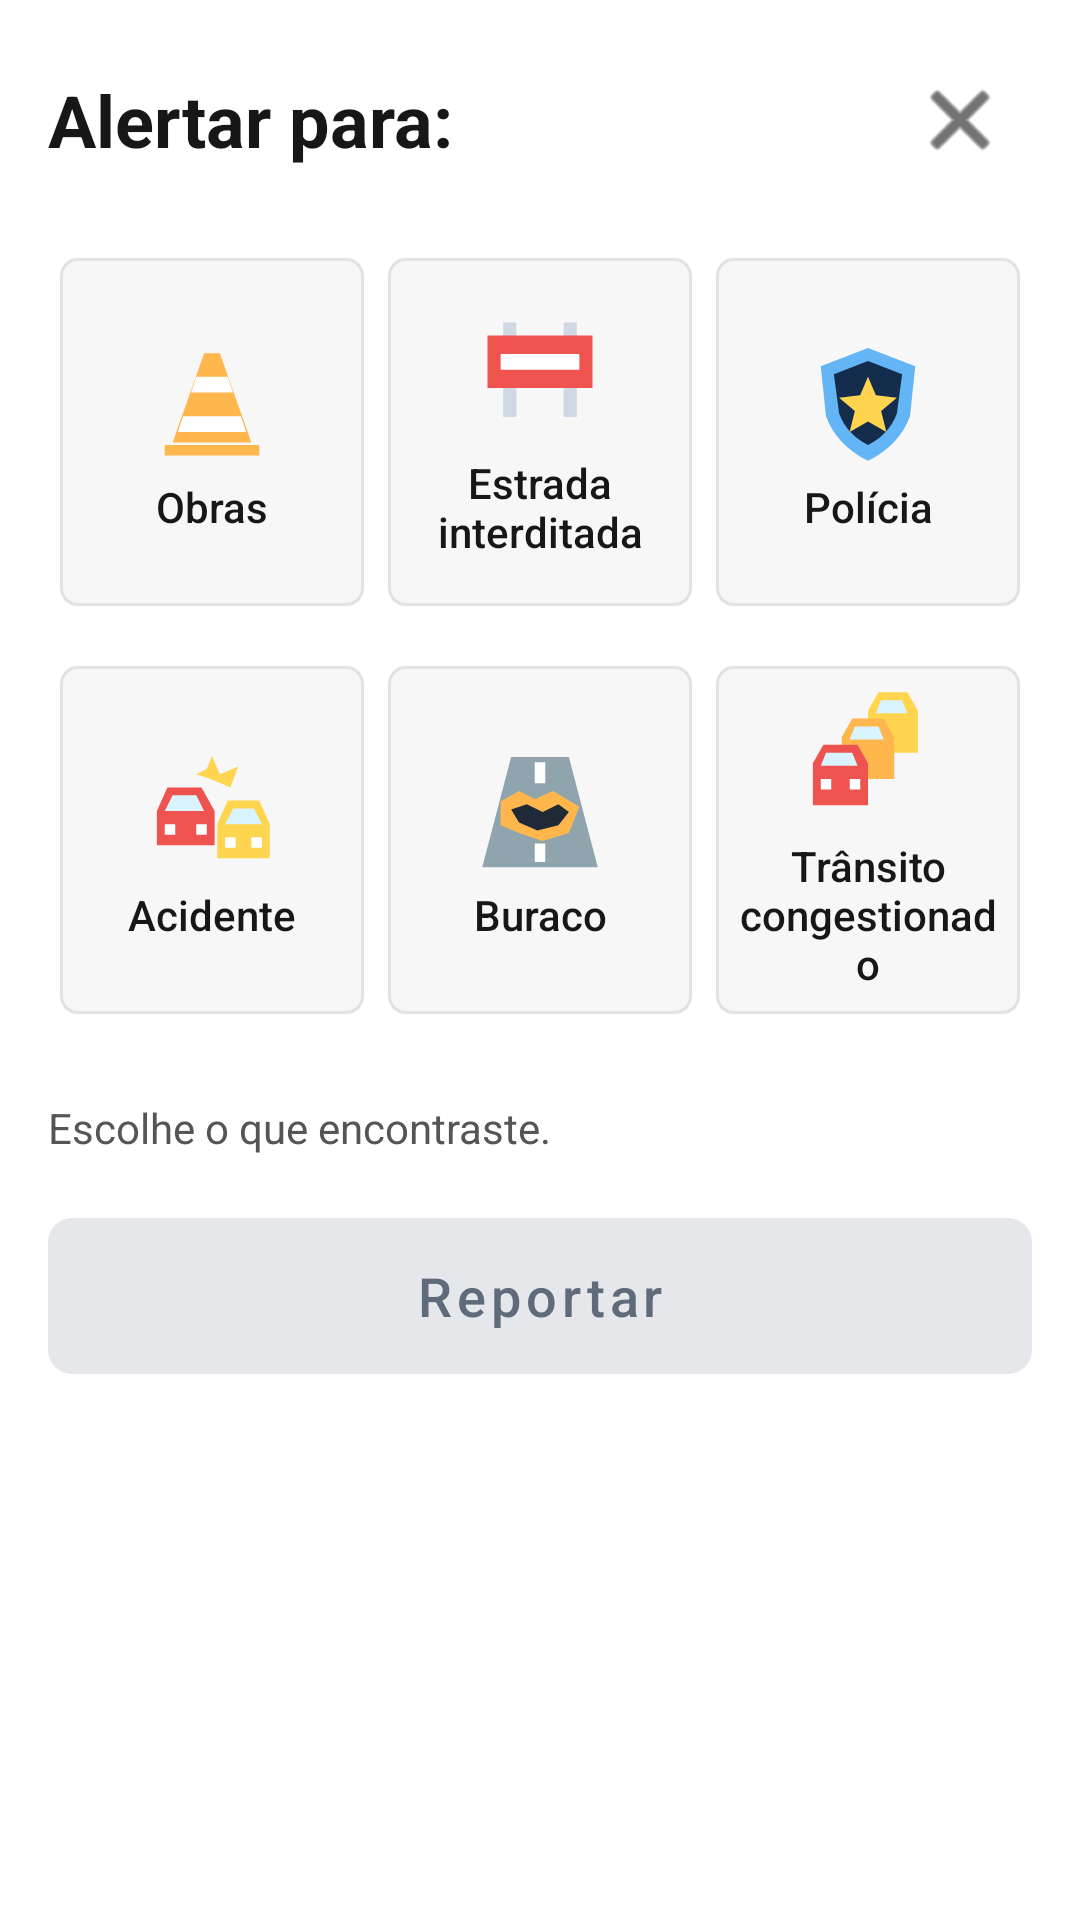

Icon click points for this 1080w x 1920h phone screenshot, format (x=x, y=y):
Fechar: (x=960, y=120)
